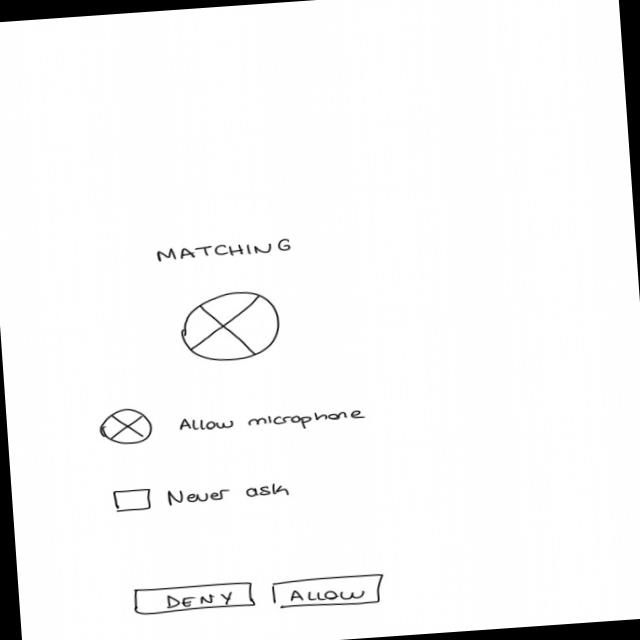button: (268, 571, 388, 612), (130, 578, 257, 616)
checkbox: (111, 475, 295, 513)
image: (176, 286, 282, 366), (96, 406, 154, 446)
label: (176, 404, 370, 438), (154, 235, 294, 262)
